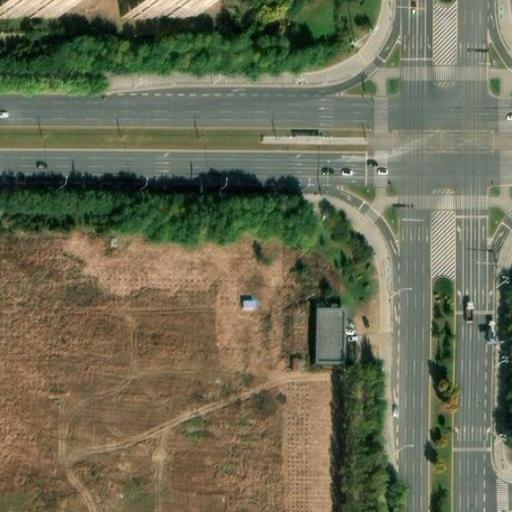building: (317, 305, 344, 361), (125, 0, 207, 10), (239, 292, 256, 308)
